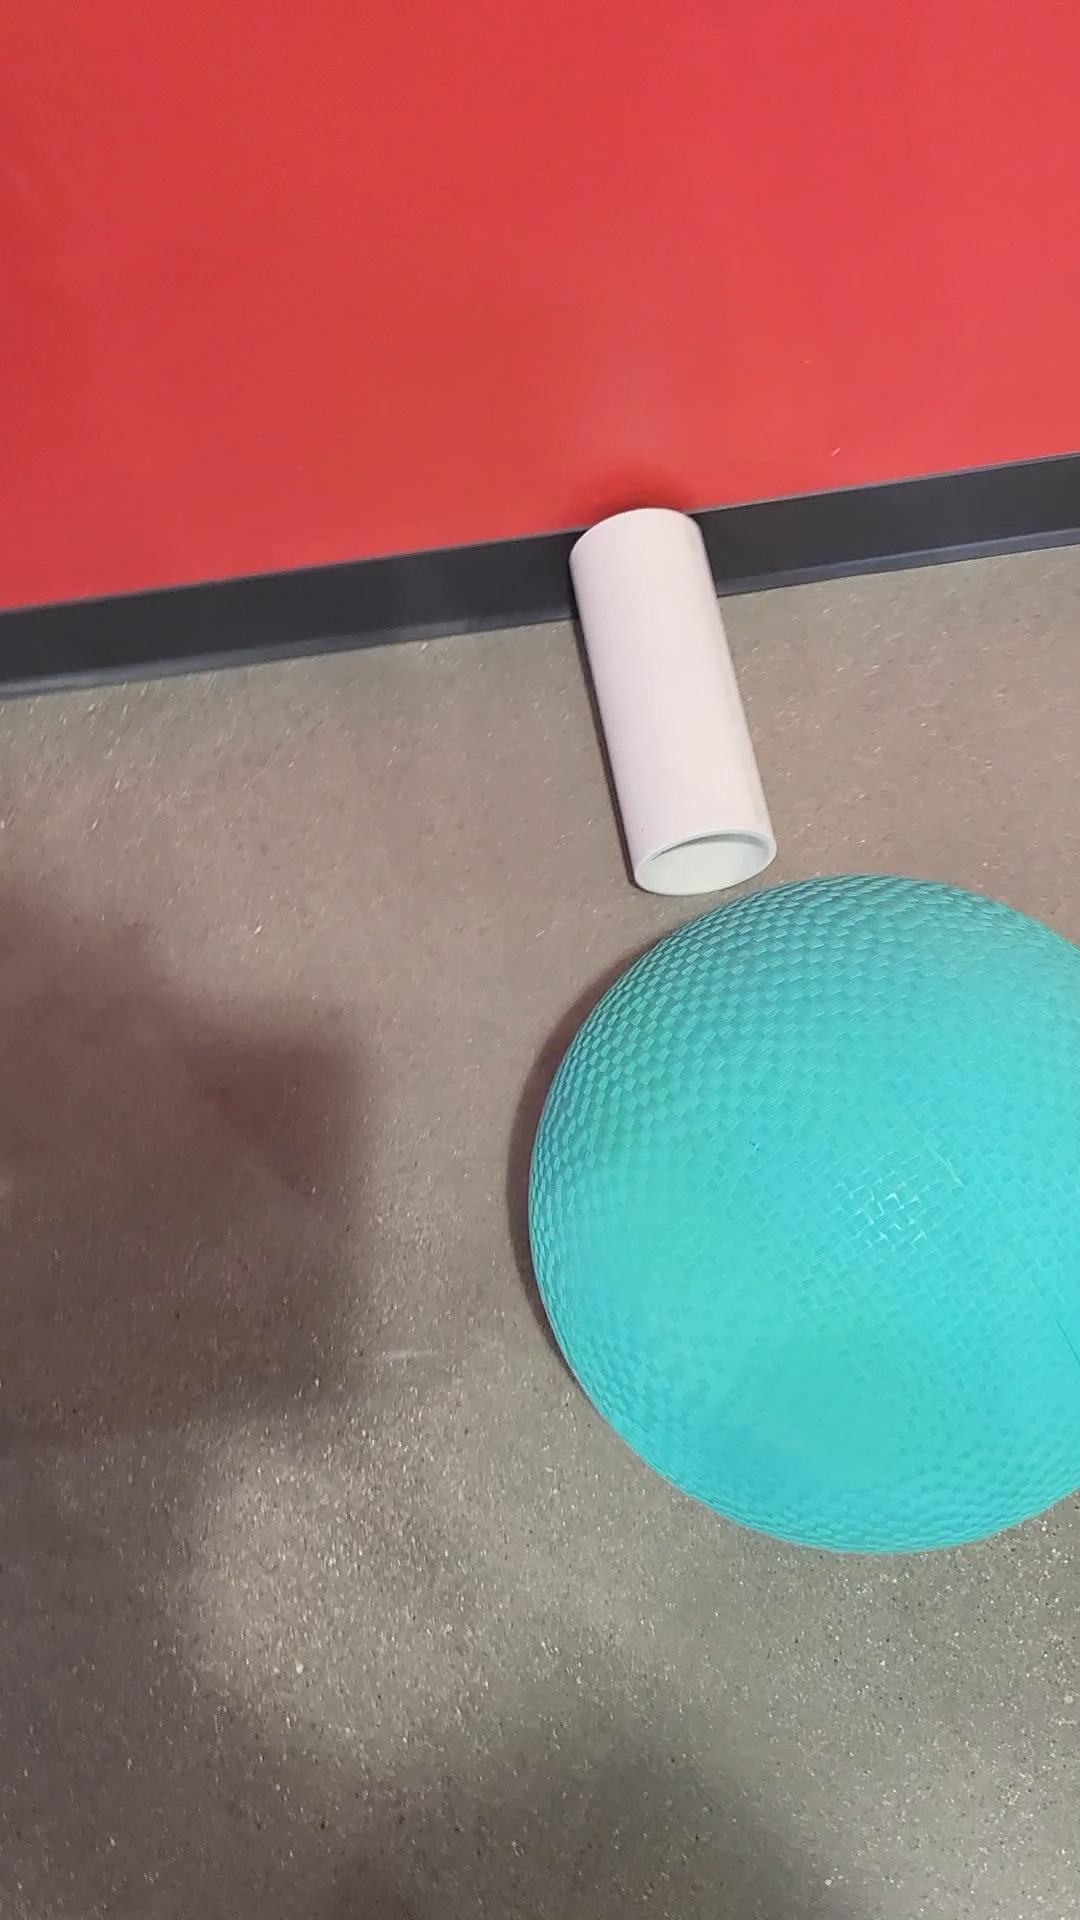algae: (512, 861, 1080, 1561)
coral: (556, 506, 794, 909)
